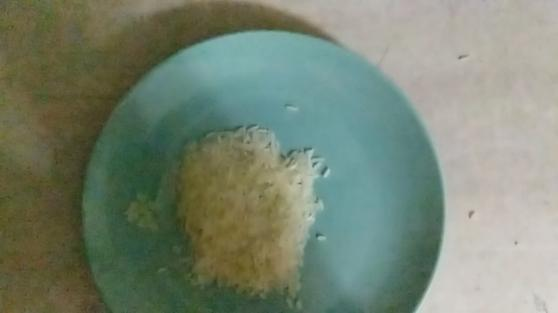rice: (139, 116, 332, 310)
